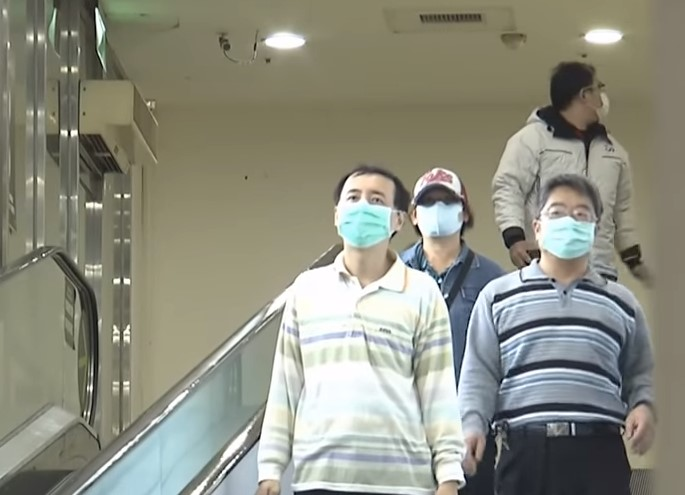face_with_mask: (535, 173, 602, 258), (332, 169, 400, 248), (408, 167, 468, 238), (547, 62, 609, 128)
